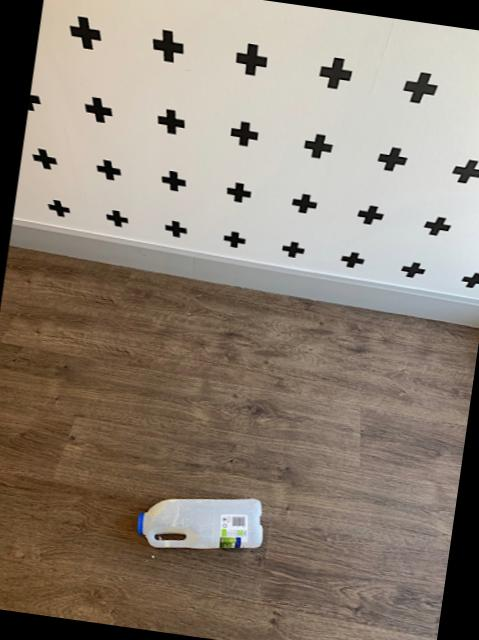plastic: (136, 497, 260, 547)
